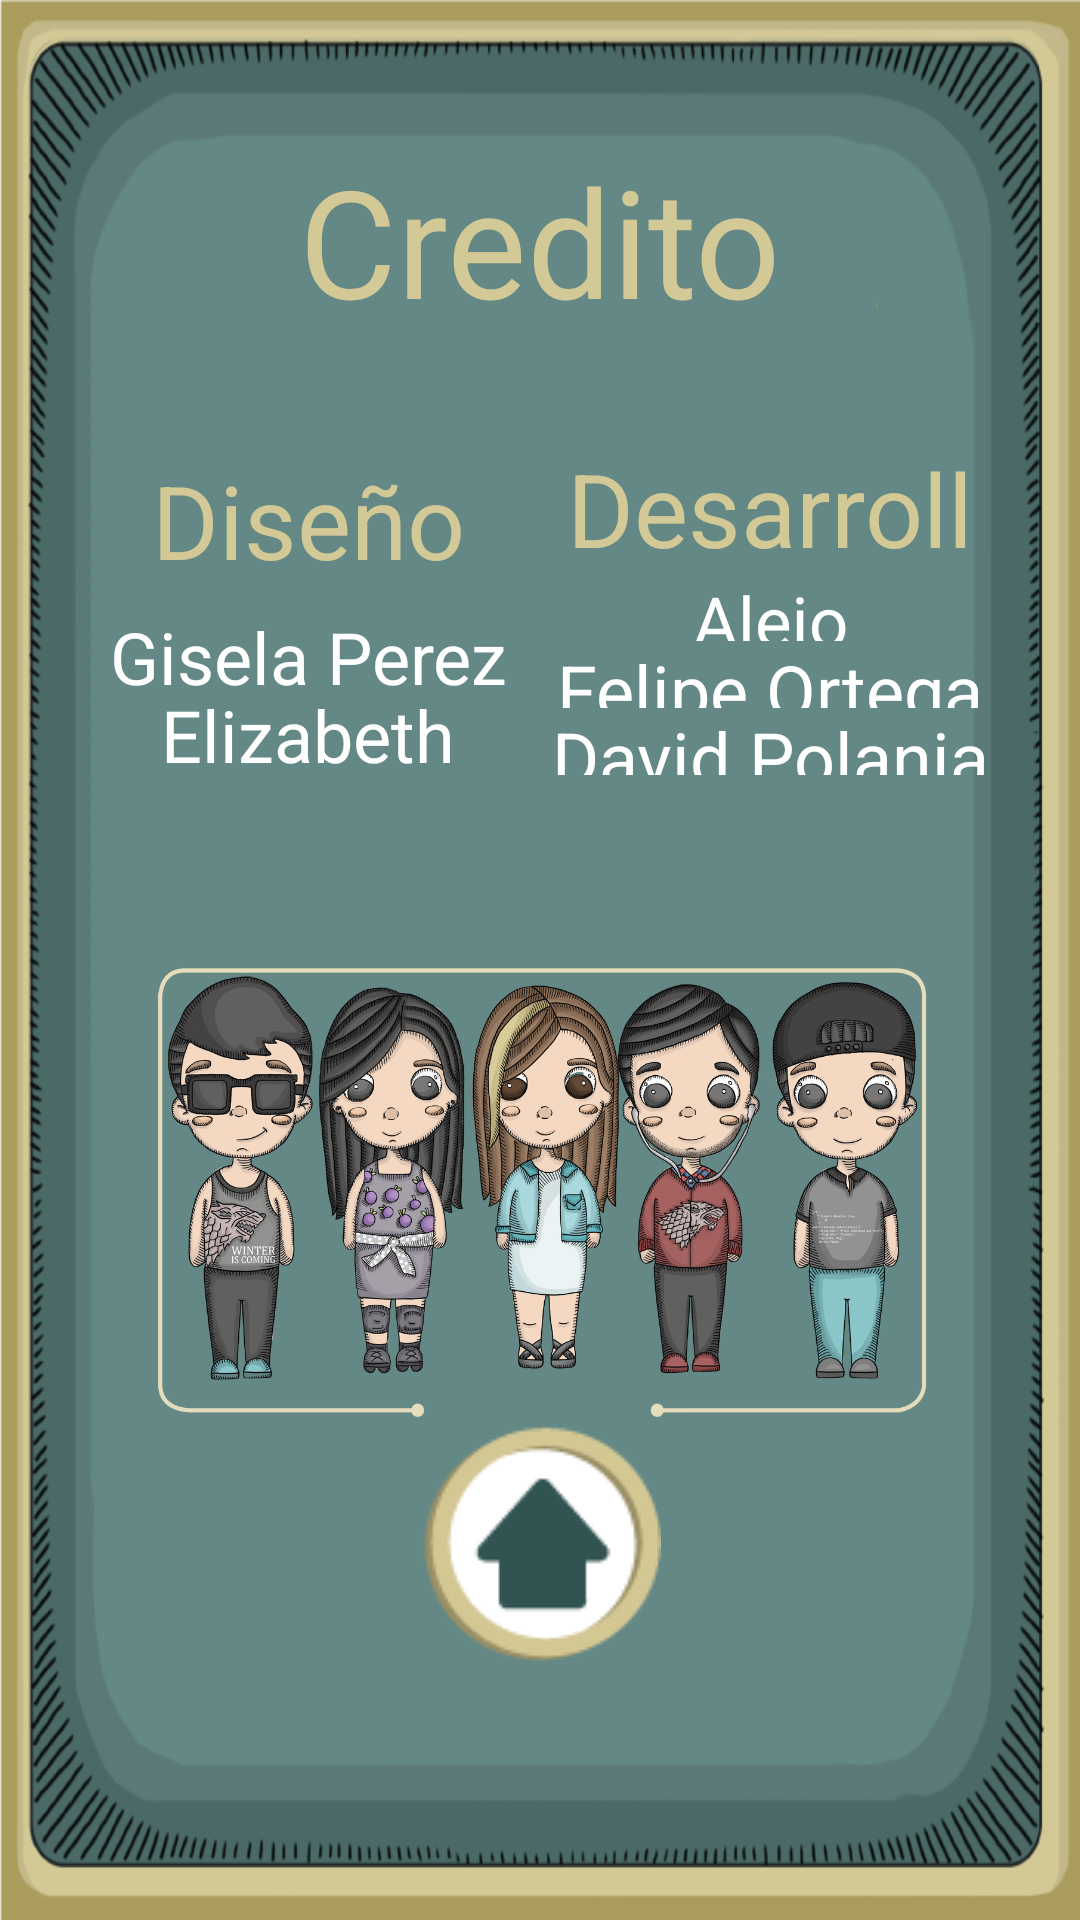

Icons on this 1080w x 1920h Android screen, each with the point to tap as (x=x, y=y):
botonhome: (x=543, y=1543)
